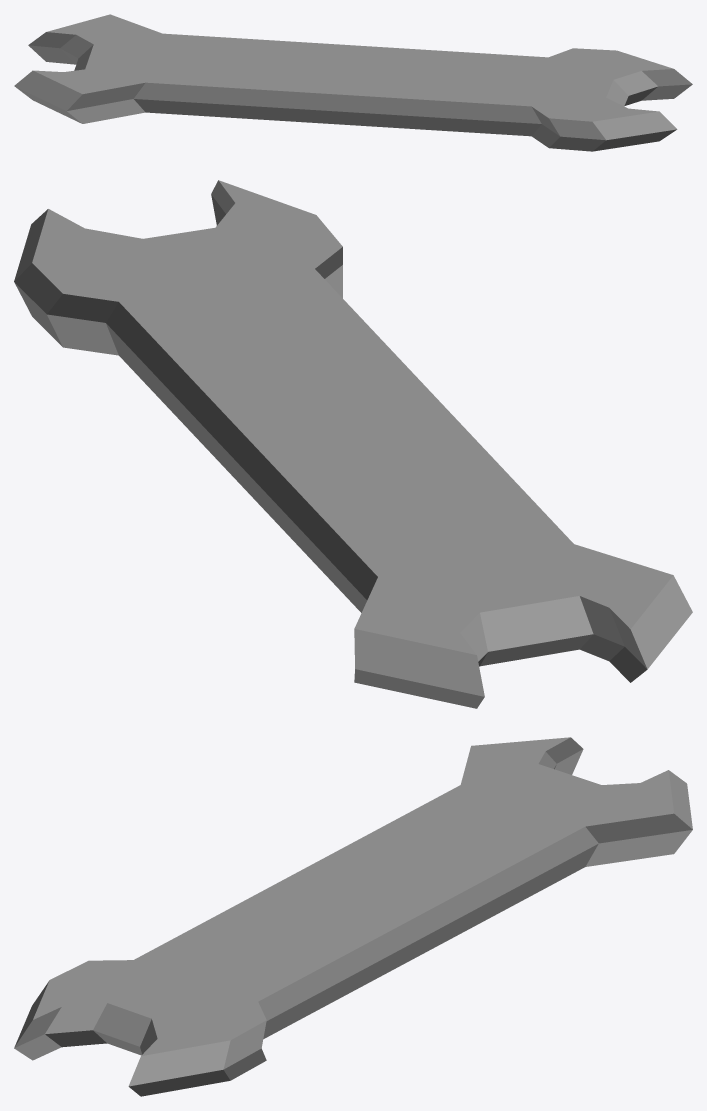
The model's file is Wrench.fbx.
3 renders of one model, top to bottom at view 1: azimuth 30°, elevation 25°; view 2: azimuth 150°, elevation 25°; view 3: azimuth 270°, elevation 25°, orthographic. The views are drawn at different scales.
Parts seen in each view (by area): view 1: Wrench; view 2: Wrench; view 3: Wrench.
Part boxes in pixels (x1,y1,x2,y2): Wrench: (14, 14, 692, 151); Wrench: (14, 180, 692, 708); Wrench: (14, 737, 692, 1096).
Bounding box in the file's own units: 53.95 × 45.85 × 3.02.
